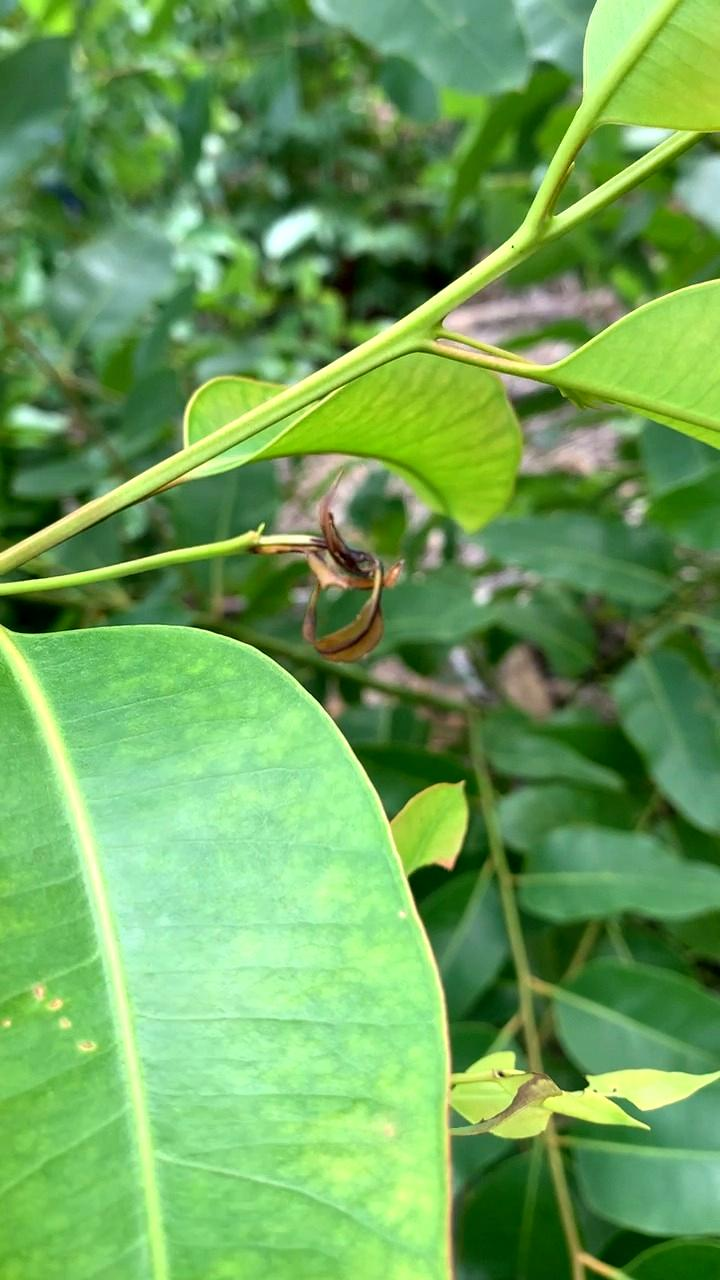Helopeltis-Withered Sprout: (290, 488, 413, 661)
